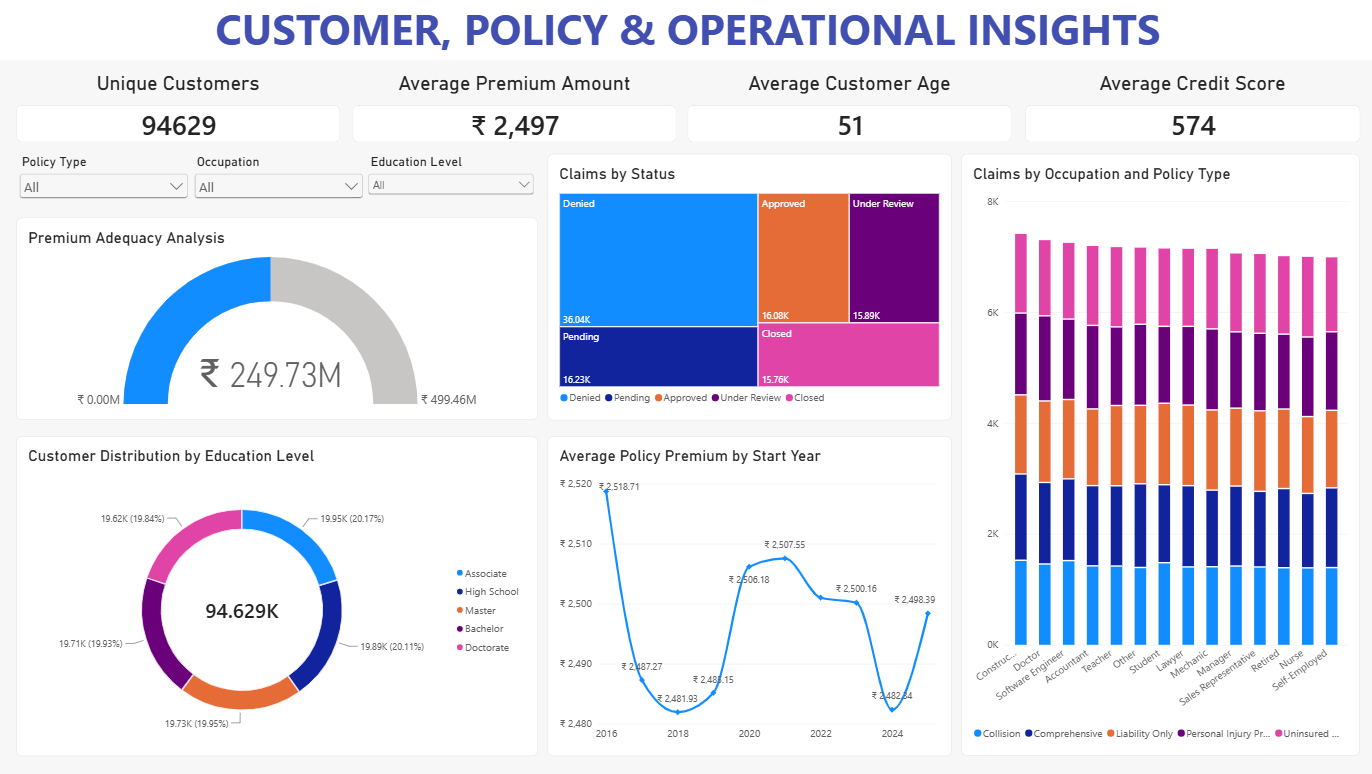

What the dashboard file says about the page in this screenshot:
{"tool":"powerbi","page":{"name":"Customer, Policy & Claim Insights","canvas":[1920,1080],"ordinal":3},"visuals":[{"type":"textbox","box":[0,0,1920,84],"z":0},{"type":"cardVisual","title":"Unique Customers","fields":{"Data":["Count(insurance_claim_fraud_powerbi.customer_id)"]},"box":[22,100,452,100],"z":1000},{"type":"cardVisual","title":"Average Premium Amount","fields":{"Data":["Avg(insurance_claim_fraud_powerbi.premium_amount)"]},"box":[492,100,452,100],"z":2000},{"type":"cardVisual","title":"Average Customer Age","fields":{"Data":["Avg(insurance_claim_fraud_powerbi.age)"]},"box":[960,100,452,100],"z":3000},{"type":"cardVisual","title":"Average Credit Score","fields":{"Data":["Avg(insurance_claim_fraud_powerbi.credit_score)"]},"box":[1430,100,468,100],"z":4000},{"type":"slicer","fields":{"Values":["insurance_claim_fraud_powerbi.policy_type"]},"box":[22,214,244,76],"z":5000},{"type":"slicer","fields":{"Values":["insurance_claim_fraud_powerbi.occupation"]},"box":[266,214,244,76],"z":6000},{"type":"slicer","fields":{"Values":["insurance_claim_fraud_powerbi.education_level"]},"box":[510,214,240,76],"z":7000},{"type":"gauge","title":"Premium Adequacy Analysis","fields":{"TargetValue":["Sum(insurance_claim_fraud_powerbi.coverage_amount)"],"Y":["Sum(insurance_claim_fraud_powerbi.premium_amount)"]},"box":[22,304,728,282],"z":8000},{"type":"donutChart","title":"Customer Distribution by Education Level","fields":{"Category":["insurance_claim_fraud_powerbi.education_level"],"Y":["Count(insurance_claim_fraud_powerbi.customer_id)"]},"box":[22,608,728,446],"z":9000},{"type":"lineChart","title":"Average Policy Premium by Start Year","fields":{"Category":["insurance_claim_fraud_powerbi.policy_start_date.Variation.Date Hierarchy.Year"],"Y":["Avg(insurance_claim_fraud_powerbi.premium_amount)"]},"box":[764,608,564,446],"z":10000},{"type":"columnChart","title":"Claims by Occupation and Policy Type","fields":{"Category":["insurance_claim_fraud_powerbi.occupation"],"Series":["insurance_claim_fraud_powerbi.policy_type"],"Y":["CountNonNull(insurance_claim_fraud_powerbi.claim_id)"]},"box":[1342,214,556,840],"z":11000},{"type":"treemap","title":"Claims by Status","fields":{"Group":["insurance_claim_fraud_powerbi.claim_status"],"Values":["CountNonNull(insurance_claim_fraud_powerbi.claim_id)"]},"box":[764,214,564,372],"z":12000}]}

Visuals, with their boxes in screenshot pixels (x1, y1, x2, y2), scaled from the page's 1920x1080 canvas onto the 1372x774 screenshot:
textbox: Rect(0, 0, 1371, 60)
"Unique Customers" cardVisual: Rect(16, 72, 339, 143)
"Average Premium Amount" cardVisual: Rect(352, 72, 675, 143)
"Average Customer Age" cardVisual: Rect(686, 72, 1009, 143)
"Average Credit Score" cardVisual: Rect(1022, 72, 1356, 143)
slicer - insurance_claim_fraud_powerbi.policy_type: Rect(16, 153, 190, 208)
slicer - insurance_claim_fraud_powerbi.occupation: Rect(190, 153, 364, 208)
slicer - insurance_claim_fraud_powerbi.education_level: Rect(364, 153, 536, 208)
"Premium Adequacy Analysis" gauge: Rect(16, 218, 536, 420)
"Customer Distribution by Education Level" donutChart: Rect(16, 436, 536, 755)
"Average Policy Premium by Start Year" lineChart: Rect(546, 436, 949, 755)
"Claims by Occupation and Policy Type" columnChart: Rect(959, 153, 1356, 755)
"Claims by Status" treemap: Rect(546, 153, 949, 420)
